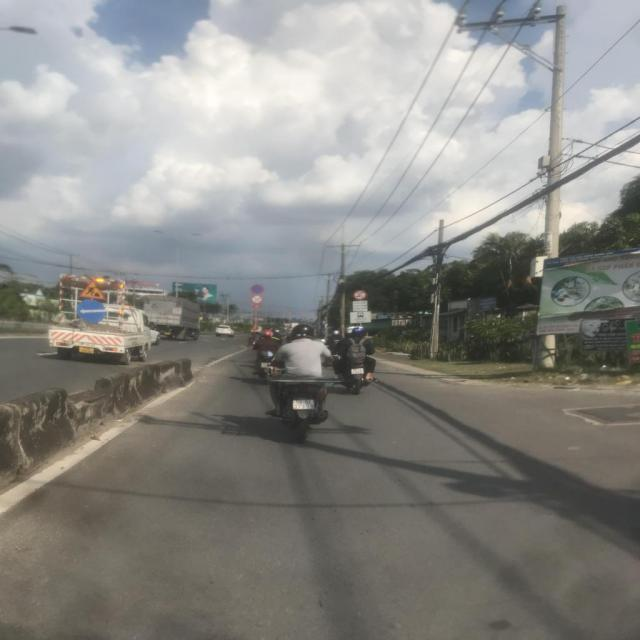107-cam-oto-khach-va-oto-tai: (352, 290, 368, 300)
227-cong-truong: (81, 282, 107, 302)
301c-cac-xe-chi-duoc-re-trai: (76, 300, 108, 324)
